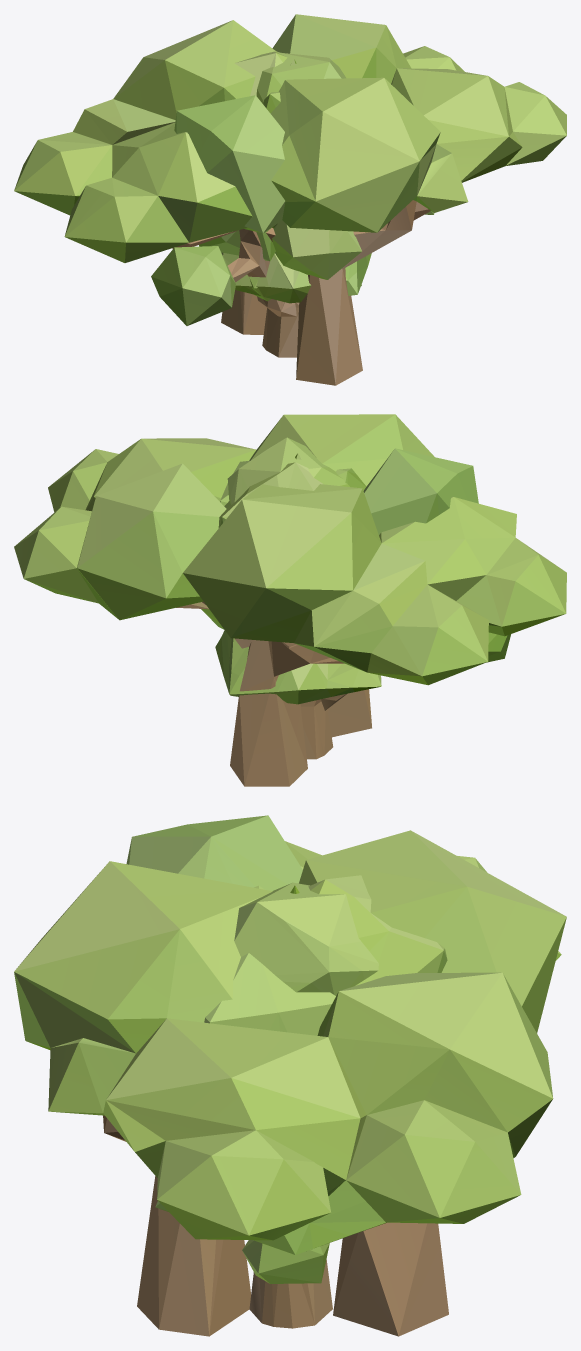
Rendered from trees_lowpoly.glb.
3 views of the same model, one above another, from view 1: azimuth 30°, elevation 25°; view 2: azimuth 150°, elevation 25°; view 3: azimuth 270°, elevation 25° (orthographic). The views are drawn at different scales.
Parts seen in each view (by area): view 1: tree_04, tree_00, tree_01, tree_02, tree_03; view 2: tree_04, tree_00, tree_02, tree_01, tree_03; view 3: tree_04, tree_00, tree_03, tree_01, tree_02.
Boxes of the visible parts, bbox=[...] form: tree_04: bbox=[14, 14, 566, 385]; tree_00: bbox=[151, 92, 434, 325]; tree_01: bbox=[199, 51, 361, 357]; tree_02: bbox=[221, 59, 371, 303]; tree_03: bbox=[249, 52, 361, 301]; tree_04: bbox=[14, 414, 566, 786]; tree_00: bbox=[220, 448, 510, 710]; tree_02: bbox=[215, 453, 381, 704]; tree_01: bbox=[201, 462, 333, 759]; tree_03: bbox=[227, 437, 349, 504]; tree_04: bbox=[14, 830, 566, 1336]; tree_00: bbox=[126, 815, 335, 1035]; tree_03: bbox=[234, 882, 378, 1283]; tree_01: bbox=[249, 875, 447, 1328]; tree_02: bbox=[155, 885, 386, 1254].
Size of the model in its own units: 12.85 by 7 by 8.17.
